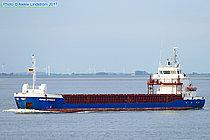Ship: (11, 43, 207, 115)
